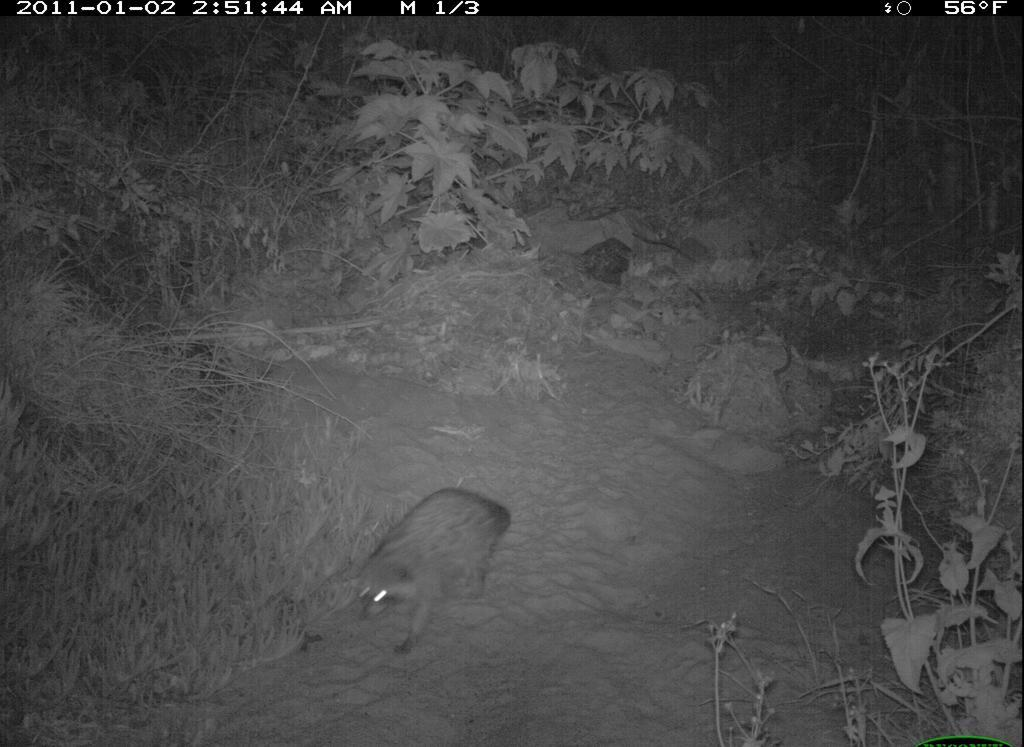raccoon: (340, 483, 519, 664)
